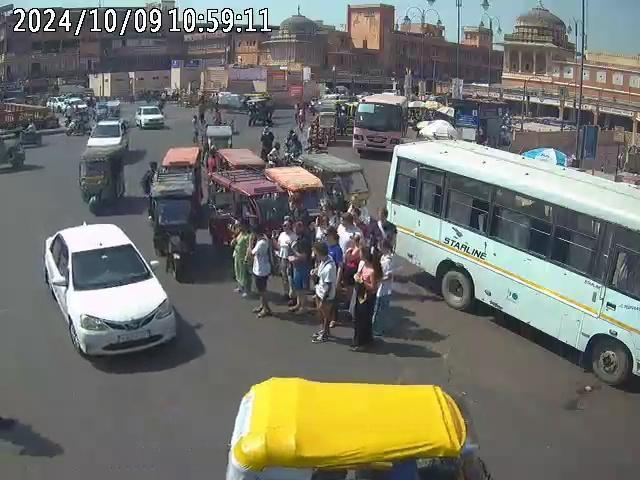auto: (226, 376, 493, 480), (207, 151, 302, 250), (151, 165, 199, 282), (292, 150, 371, 219), (78, 143, 127, 212), (0, 128, 25, 172)
bus: (386, 138, 640, 382), (352, 92, 408, 154)
car: (42, 221, 178, 364), (88, 120, 130, 148), (136, 104, 164, 130)
person: (347, 243, 385, 350), (312, 240, 342, 342), (248, 226, 278, 316), (276, 217, 296, 302), (230, 221, 249, 296)
